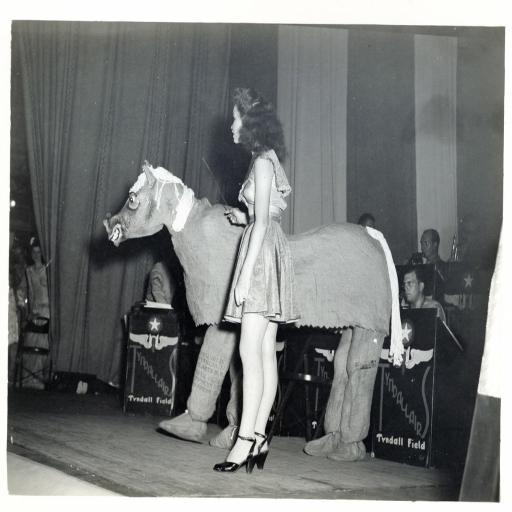horse: (102, 160, 404, 464)
